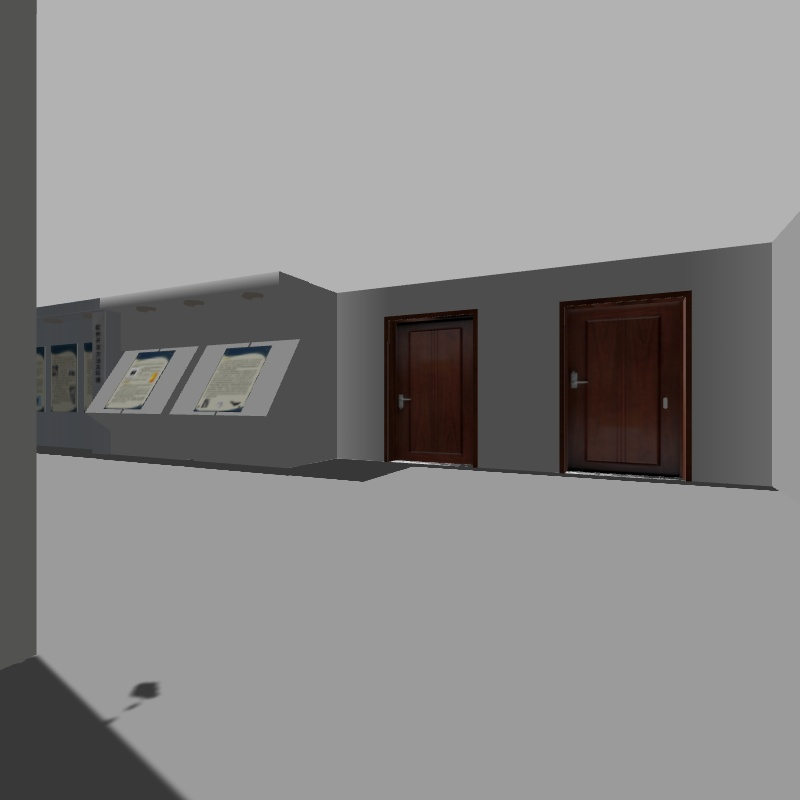handle: (565, 365, 591, 393), (390, 391, 415, 410)
